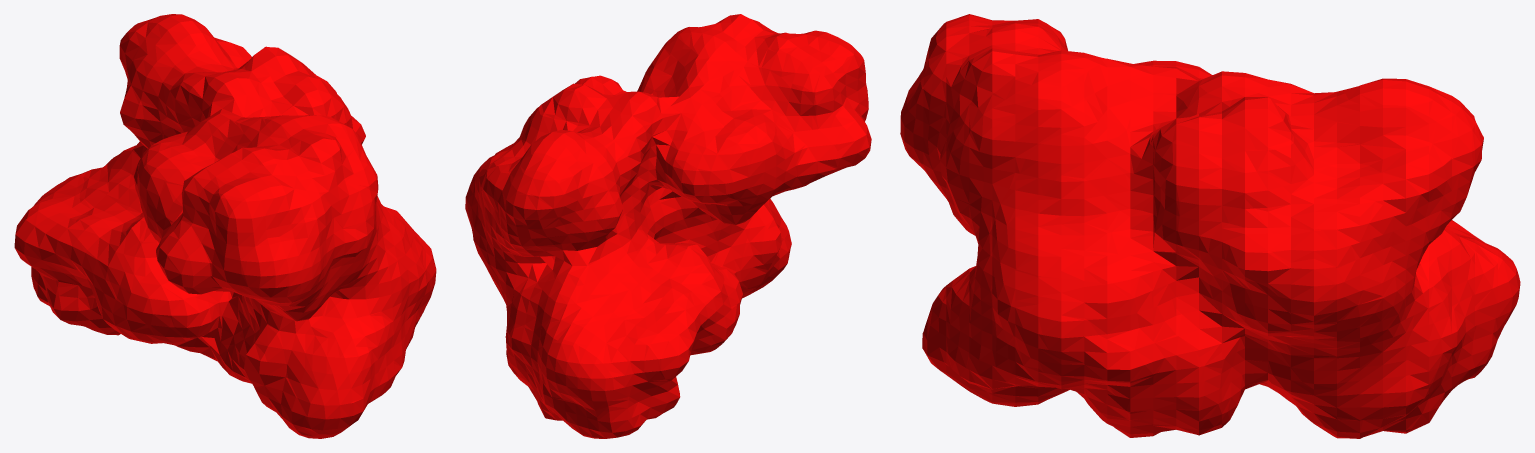
File: sodB_coarse.dae
3 renders of one model, left to right at view 1: azimuth 30°, elevation 25°; view 2: azimuth 150°, elevation 25°; view 3: azimuth 270°, elevation 25°, orthographic. The views are drawn at different scales.
Parts seen in each view (by area): view 1: sodB; view 2: sodB; view 3: sodB.
Part boxes in pixels (bbox=[...]): sodB: bbox=[14, 14, 436, 438]; sodB: bbox=[465, 14, 871, 438]; sodB: bbox=[900, 14, 1520, 438].
Size of the model in its own units: 64.87 by 64.33 by 98.07.
